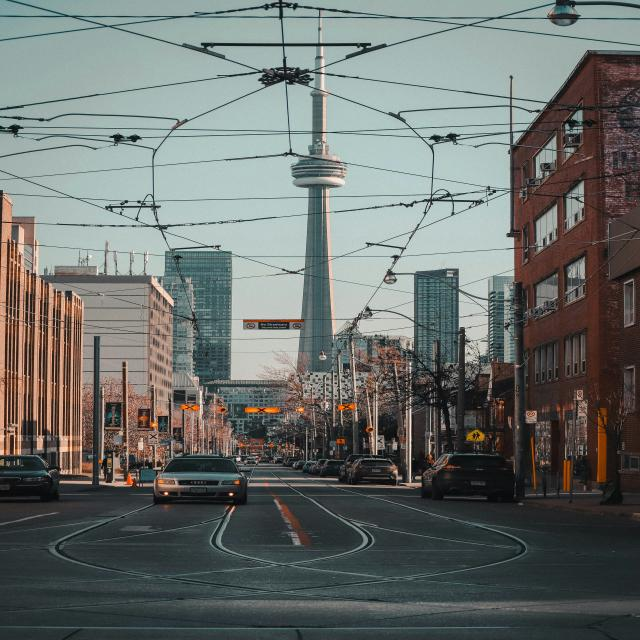Car: (153, 455, 251, 504), (420, 453, 516, 502), (0, 454, 61, 502), (348, 458, 398, 486)
